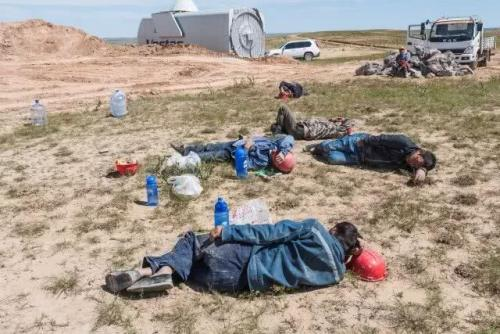fall: (262, 99, 356, 141)
